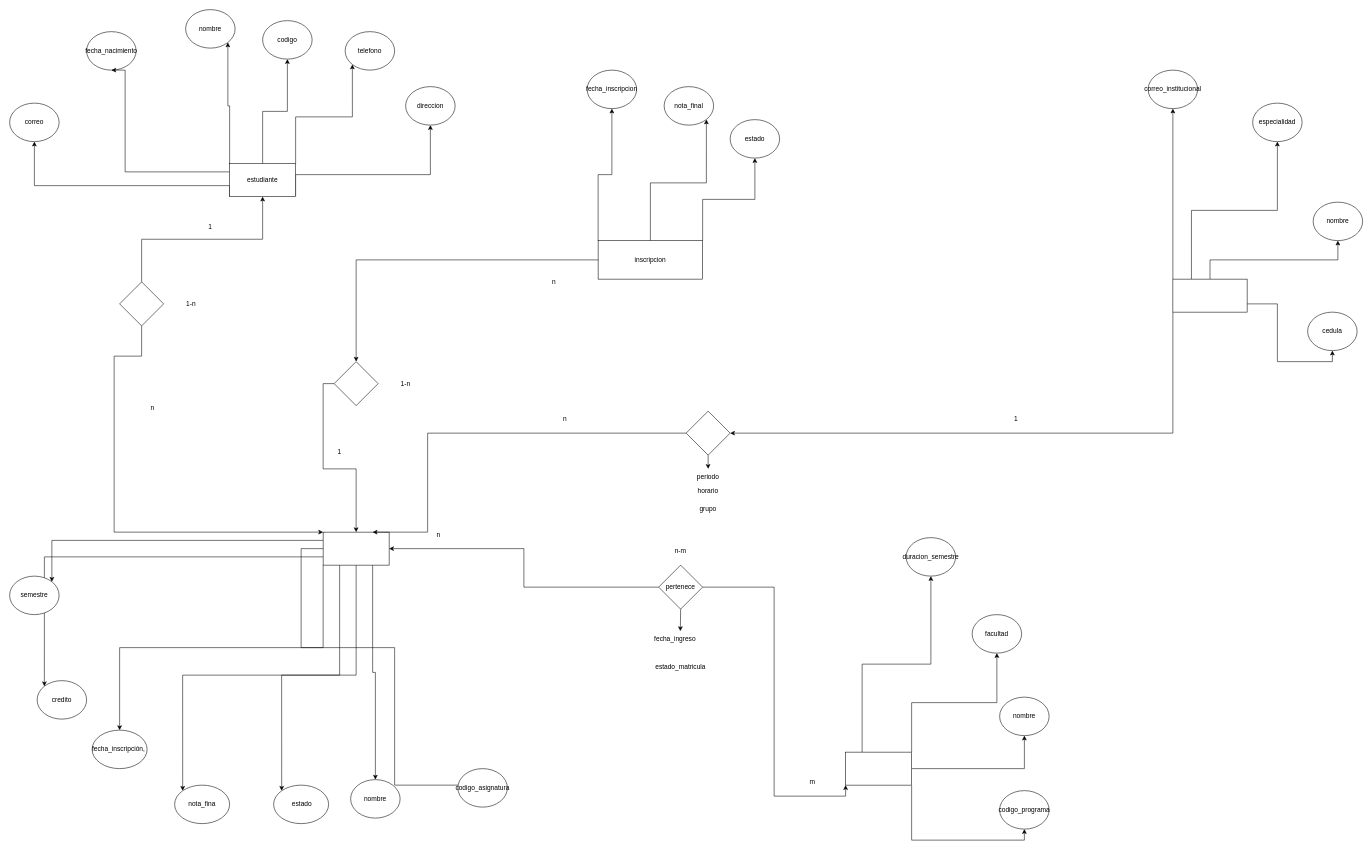
This 1372x854 diagram has some shape labels left out. Here are the shapes that lost their labels. From the top down, the centre of each, then its label:
At [141,303]: "cursa".
At [1209,295]: "profesor".
At [356,383]: "tiene".
At [708,433]: "dicta".
At [356,548]: "asignatura".
At [878,768]: "programa".
